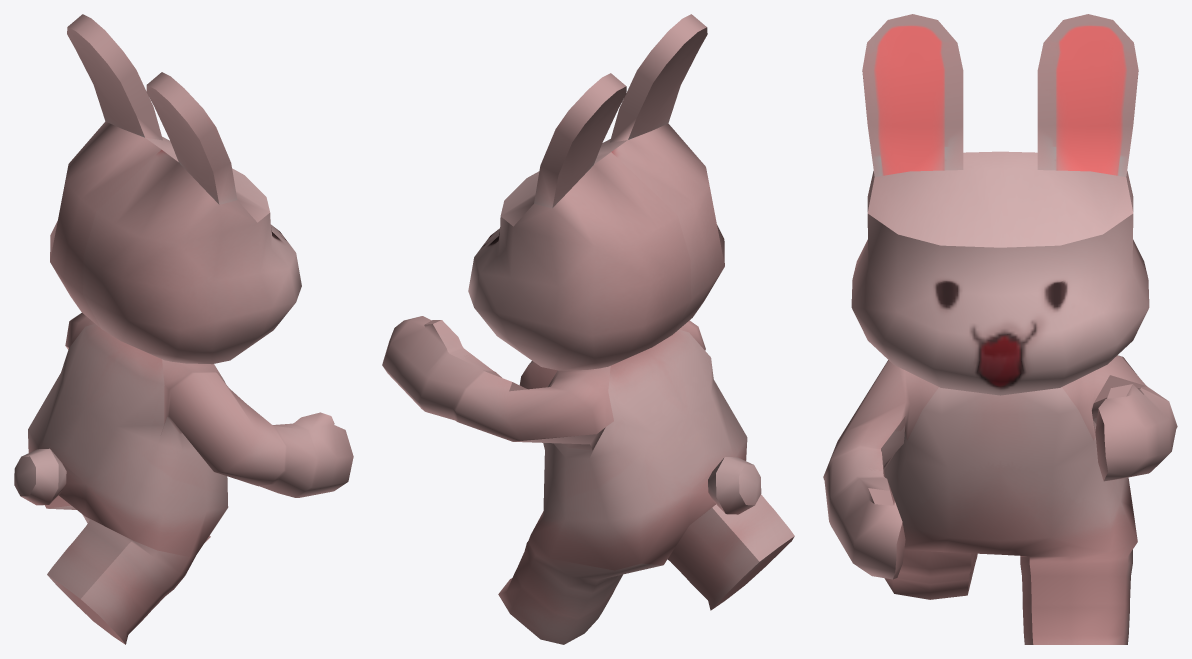
3 views of the same model, side by side, from view 1: azimuth 30°, elevation 25°; view 2: azimuth 150°, elevation 25°; view 3: azimuth 270°, elevation 25° (orthographic). The views are drawn at different scales.
Visible parts, largest first — view 1: Rb_S3; view 2: Rb_S3; view 3: Rb_S3.
Part boxes in pixels (bbox=[...]): Rb_S3: bbox=[14, 14, 353, 644]; Rb_S3: bbox=[382, 14, 794, 644]; Rb_S3: bbox=[823, 14, 1177, 644].
Size of the model in its own units: 4.66 by 7.91 by 4.11.
